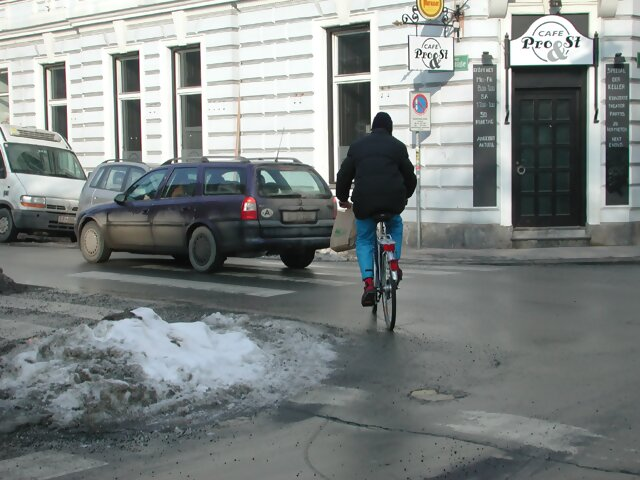person: (335, 106, 421, 309)
